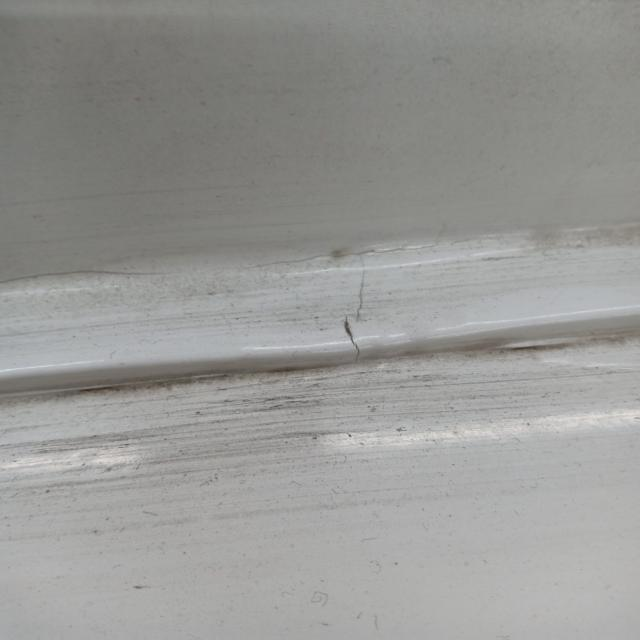Crack: (198, 202, 507, 402)
